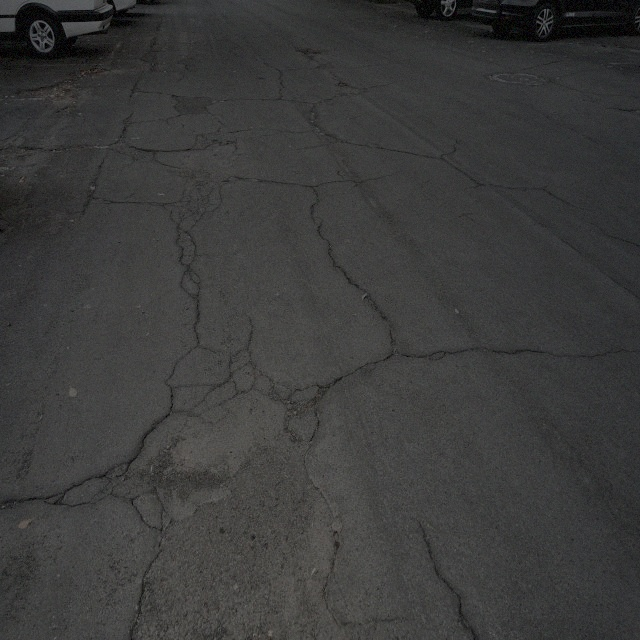pothole: (126, 394, 341, 631), (16, 72, 81, 113), (108, 138, 159, 166), (5, 141, 43, 159)
